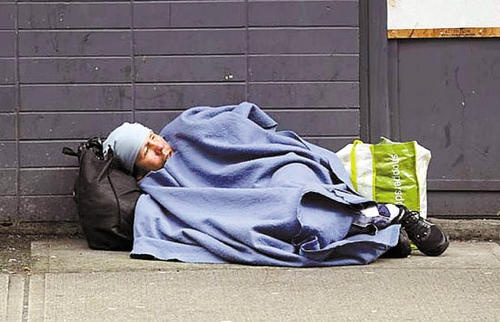falling: (50, 90, 460, 268)
